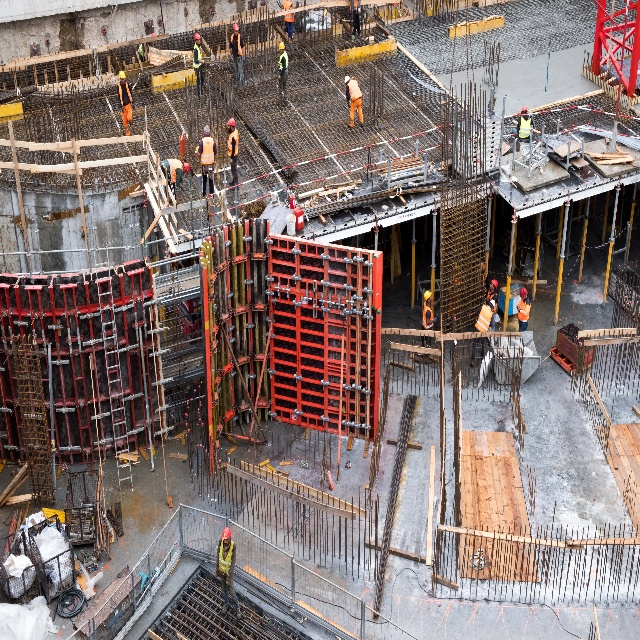Guantes: (225, 578, 230, 587), (202, 57, 205, 68), (214, 571, 219, 577), (277, 74, 281, 81)
